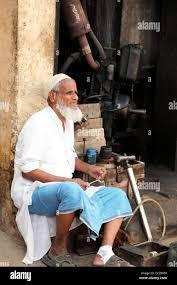Human: (17, 73, 132, 280)
